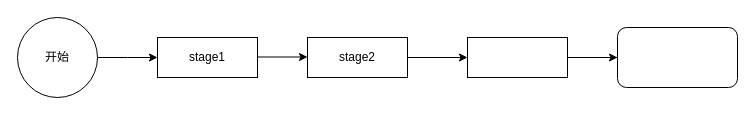
Some shapes in this 755 by 115 pixel diagram are drawn without their labels. The shapes that lost their labels are listed below. From the top down, each one's centre as x and y in pixels, then its label:
point 517,57: stage3
point 677,57: 结束
